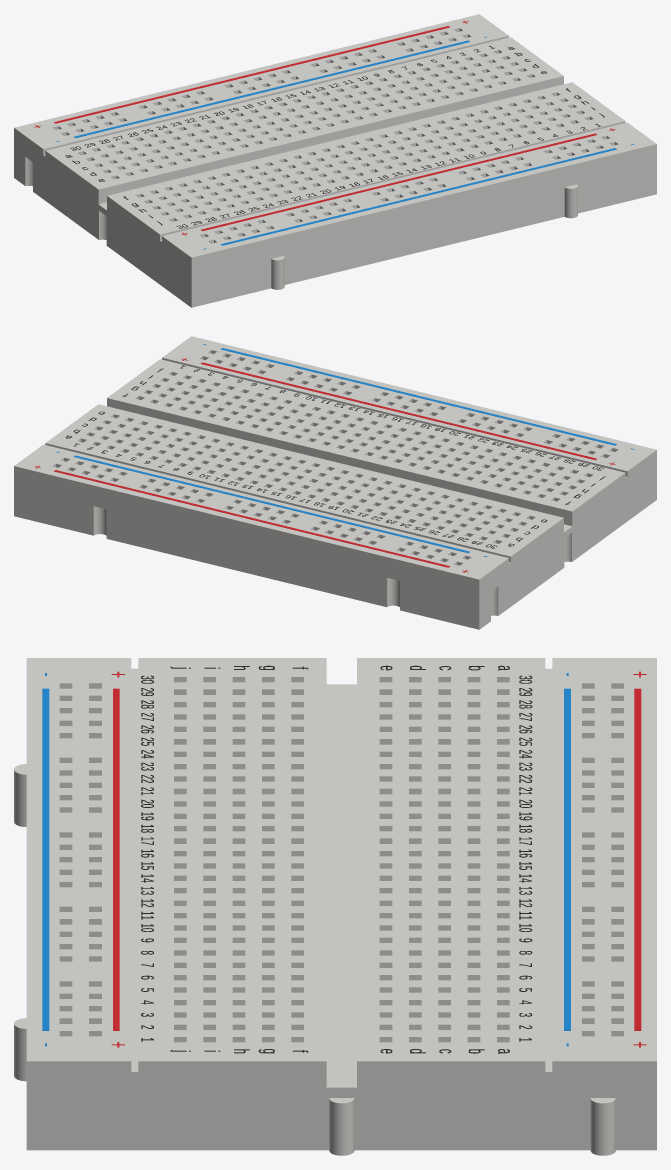
Rendered from breadboard_400.glb.
3 views of the same model, one above another, from view 1: azimuth 30°, elevation 25°; view 2: azimuth 150°, elevation 25°; view 3: azimuth 270°, elevation 25° (orthographic). The views are drawn at different scales.
Parts seen in each view (by area): view 1: Breadboard, Line_T_Red, Line_T_Blue, Line_B_Red, Line_B_Blue; view 2: Breadboard, Line_T_Blue, Line_B_Red, Line_B_Blue, Line_T_Red; view 3: Breadboard, Line_T_Red, Line_B_Blue, Line_T_Blue, Line_B_Red.
Boxes of the visible parts, x1,y1,x2,y2 form: Breadboard: (14,14,656,307); Line_T_Red: (54,26,449,123); Line_T_Blue: (74,40,469,138); Line_B_Red: (201,133,596,231); Line_B_Blue: (221,148,616,245); Breadboard: (14,336,656,629); Line_T_Blue: (74,455,469,553); Line_B_Red: (201,362,596,460); Line_B_Blue: (221,348,616,445); Line_T_Red: (54,470,449,567); Breadboard: (14,658,656,1155); Line_T_Red: (634,688,641,1030); Line_B_Blue: (42,688,49,1030); Line_T_Blue: (564,688,570,1030); Line_B_Red: (113,688,119,1030).
Bounding box in the file's own units: 0.0836 × 0.00852 × 0.0556.
